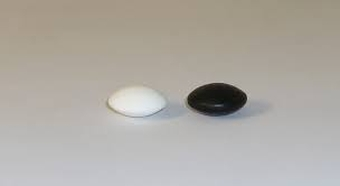black: (186, 82, 248, 117)
white: (106, 85, 169, 118)
